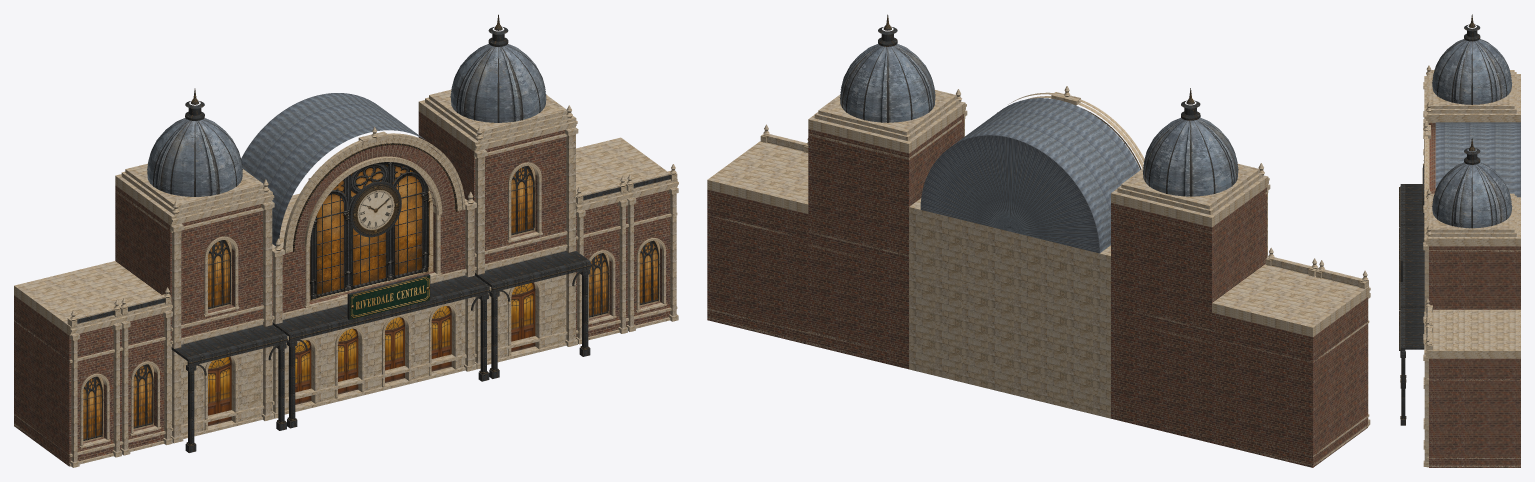
File: architecture_assembled.glb
The picture shows the model from 3 angles, left to right: view 1: azimuth 30°, elevation 25°; view 2: azimuth 150°, elevation 25°; view 3: azimuth 270°, elevation 25°; orthographic projection. The views are drawn at different scales.
Parts seen in each view (by area): view 1: clock_hall, west_tower, east_tower, west_outer_bay, west_inner_bay, east_outer_bay, east_inner_bay; view 2: clock_hall, west_tower, east_tower, west_outer_bay, west_inner_bay, east_outer_bay, east_inner_bay; view 3: east_tower, east_outer_bay, west_tower, clock_hall, east_inner_bay.
Boxes of the visible parts, x1,y1,x2,y2 form: clock_hall: [241, 93, 490, 428]; west_tower: [115, 88, 287, 452]; east_tower: [418, 14, 591, 378]; west_outer_bay: [14, 273, 122, 467]; west_inner_bay: [65, 261, 172, 455]; east_outer_bay: [576, 137, 678, 331]; east_inner_bay: [576, 154, 628, 344]; clock_hall: [909, 86, 1144, 418]; west_tower: [1111, 88, 1270, 443]; east_tower: [808, 14, 967, 369]; west_outer_bay: [1262, 260, 1370, 467]; west_inner_bay: [1212, 247, 1318, 455]; east_outer_bay: [707, 124, 808, 332]; east_inner_bay: [757, 155, 808, 344]; east_tower: [1399, 138, 1520, 425]; east_outer_bay: [1423, 319, 1520, 467]; west_tower: [1399, 14, 1520, 227]; clock_hall: [1399, 122, 1520, 381]; east_inner_bay: [1423, 298, 1520, 443].
Bounding box in the file's own units: 48 × 24.36 × 10.
Materials: 10 (10 with a texture image).
